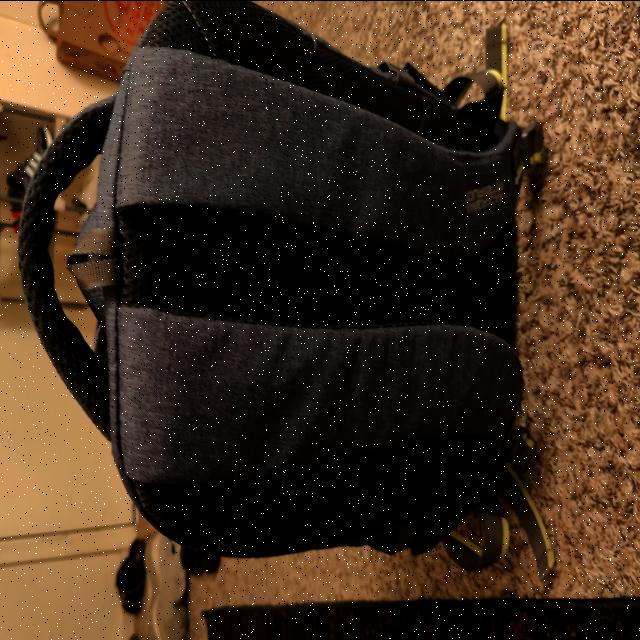bag: (21, 4, 489, 542)
